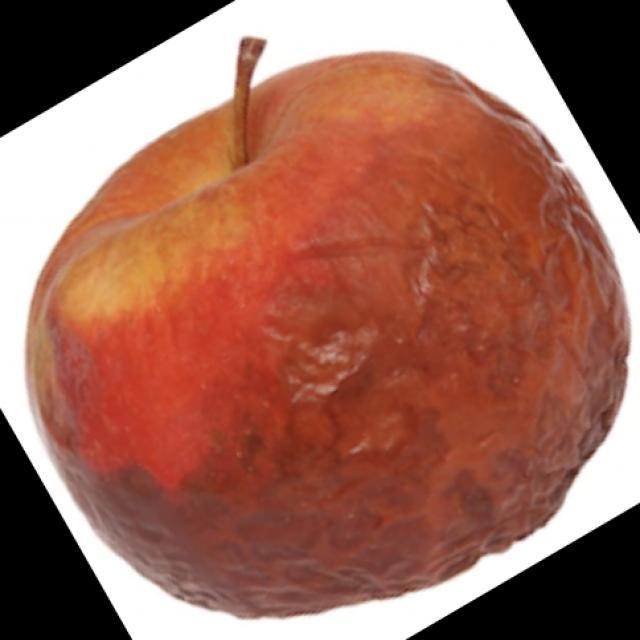Rotten: (62, 56, 618, 612)
